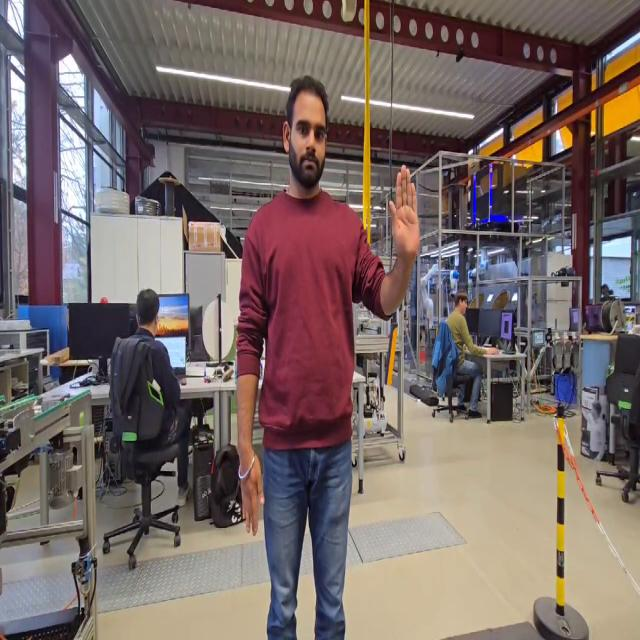open_palm: (385, 160, 423, 271)
